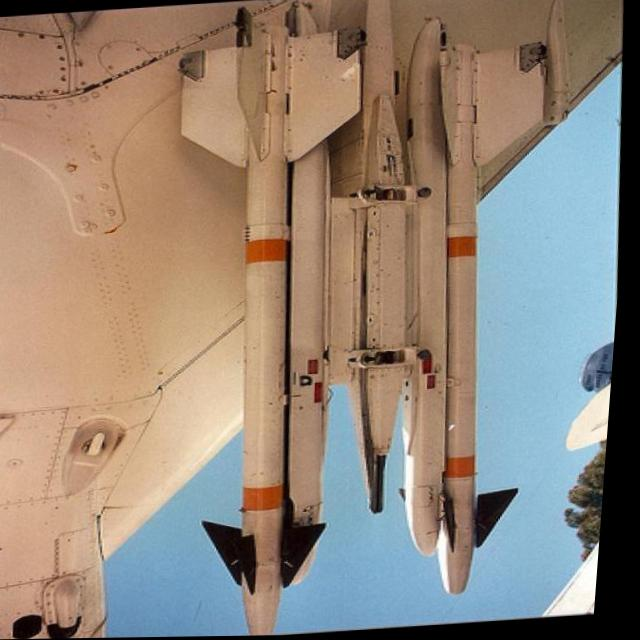missile: (195, 7, 328, 634), (416, 41, 535, 602), (259, 0, 370, 575), (326, 16, 434, 516), (384, 19, 484, 547)
